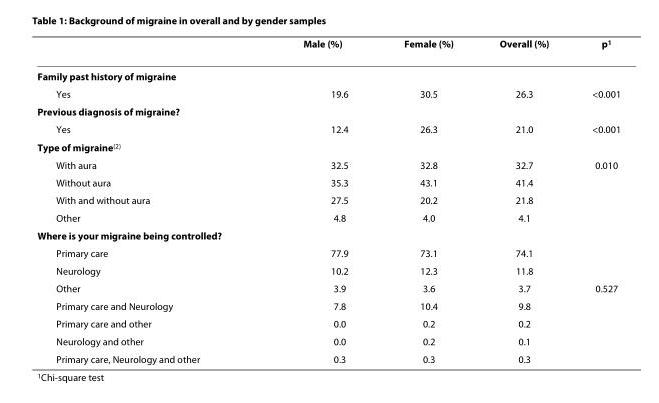table: (36, 36, 620, 364)
table column: (36, 36, 261, 364), (261, 36, 375, 364), (375, 36, 475, 364), (475, 36, 569, 364), (569, 36, 620, 364)
table column header: (36, 36, 620, 59)
table projected row header: (36, 59, 620, 84), (36, 101, 620, 119), (36, 137, 620, 155), (36, 225, 620, 243)
table row: (36, 59, 620, 84), (36, 36, 620, 59), (36, 101, 620, 119), (36, 119, 620, 137), (36, 137, 620, 155), (36, 155, 620, 173), (36, 190, 620, 208), (36, 225, 620, 243), (36, 243, 620, 261), (36, 278, 620, 296), (36, 296, 620, 314), (36, 331, 620, 349), (36, 84, 620, 101), (36, 173, 620, 190), (36, 208, 620, 225), (36, 261, 620, 278), (36, 314, 620, 331), (36, 349, 620, 364)
